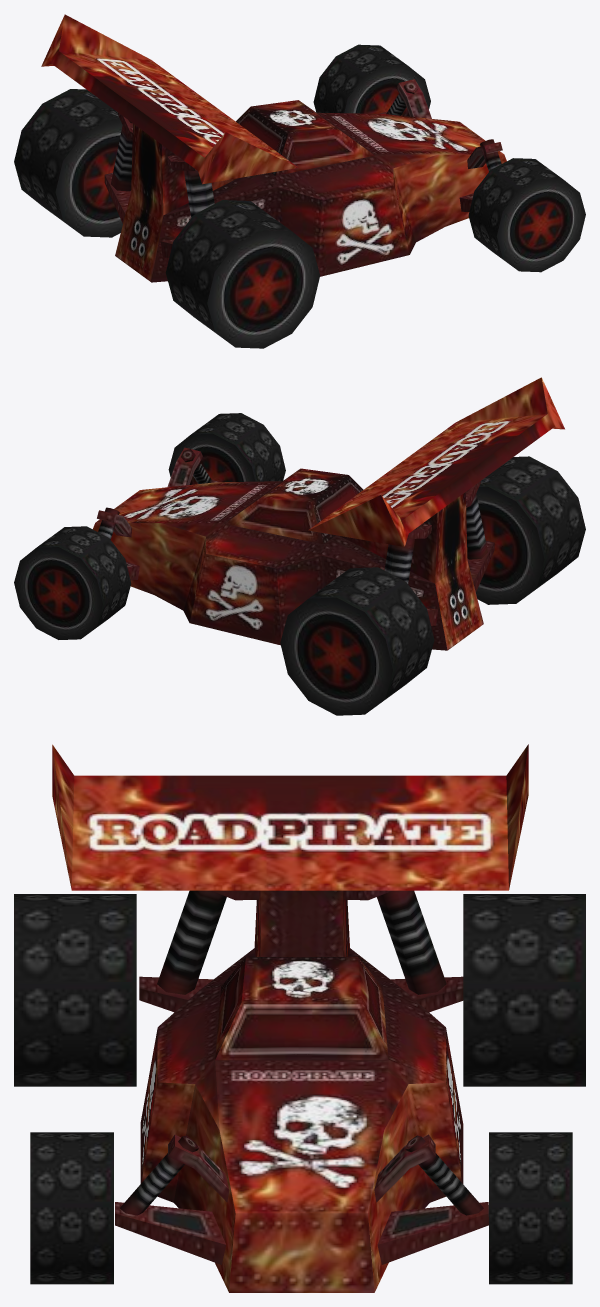
Rendered from car3.fbx.
3 views of the same model, one above another, from view 1: azimuth 30°, elevation 25°; view 2: azimuth 150°, elevation 25°; view 3: azimuth 270°, elevation 25° (orthographic). The views are drawn at different scales.
Parts seen in each view (by area): view 1: car3; view 2: car3; view 3: car3.
Part boxes in pixels (box(x1,y1,x2,y2)): car3: box(14, 14, 585, 348); car3: box(14, 377, 585, 715); car3: box(14, 744, 585, 1292).
Bounding box in the file's own units: 2.34 × 1.23 × 2.02.
